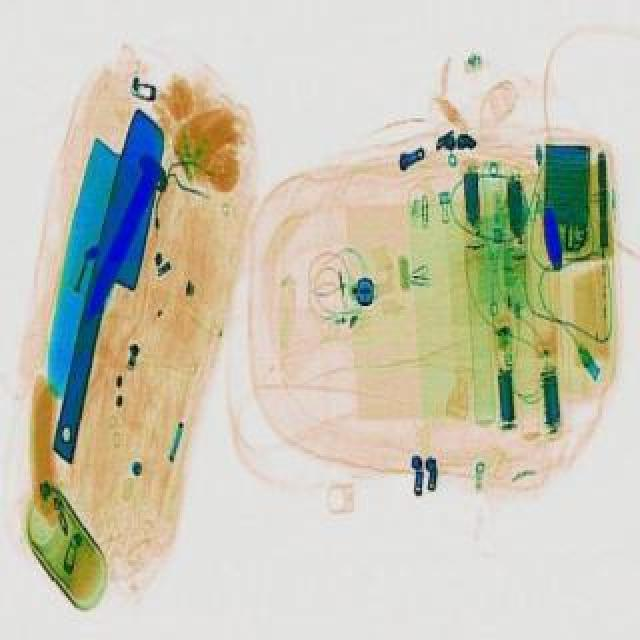knife: (40, 106, 178, 462)
